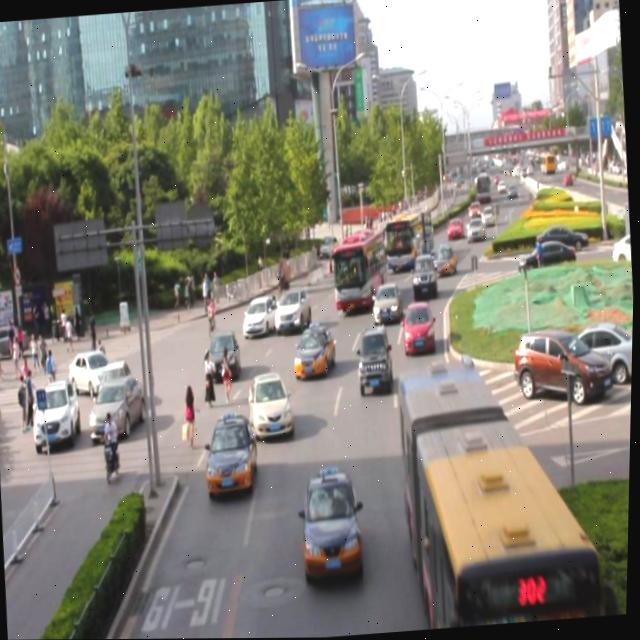car: (300, 468, 365, 577), (205, 411, 260, 494), (420, 364, 467, 444), (247, 370, 295, 437), (292, 322, 337, 380), (355, 324, 393, 390), (271, 278, 311, 329), (206, 325, 241, 379), (401, 300, 436, 354), (241, 289, 278, 331), (372, 281, 402, 323), (411, 251, 437, 298), (433, 242, 458, 276)
van: (393, 361, 605, 632), (330, 226, 389, 309), (384, 206, 434, 271)
